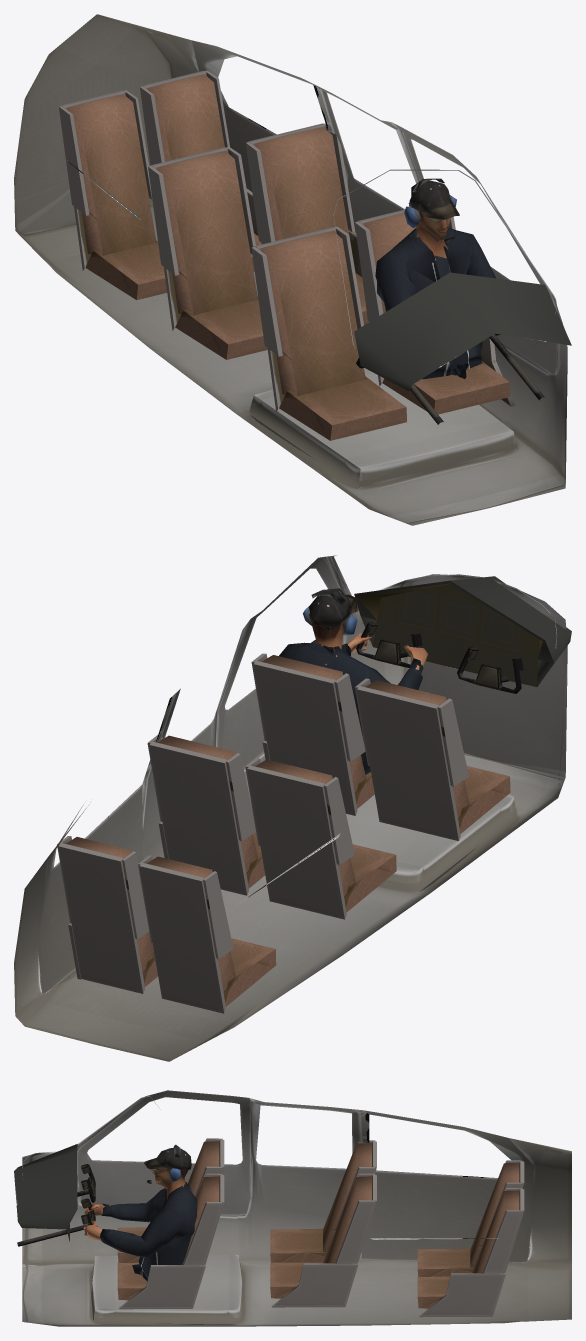
File: GaugeAircraft_Interior_LOD02.gltf
3 views of the same model, one above another, from view 1: azimuth 30°, elevation 25°; view 2: azimuth 150°, elevation 25°; view 3: azimuth 270°, elevation 25° (orthographic). The views are drawn at different scales.
Visible parts, largest first — view 1: Interior, pilot; view 2: Interior, pilot; view 3: Interior, pilot.
Part boxes in pixels (box(x1,y1,x2,y2)): Interior: box(14, 14, 571, 525); pilot: box(375, 178, 495, 379); Interior: box(14, 555, 571, 1061); pilot: box(279, 588, 428, 774); Interior: box(14, 1090, 571, 1326); pilot: box(83, 1144, 197, 1280).
Size of the model in its own units: 1.18 by 1.36 by 3.7.
